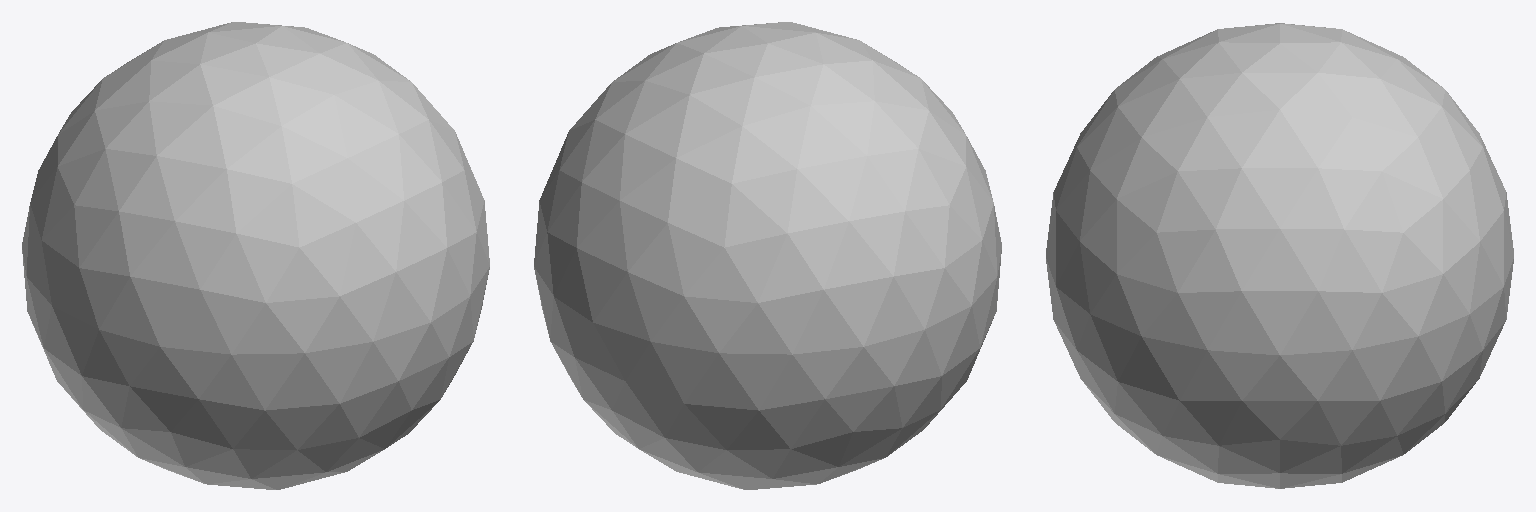
Rendered from testSphere.obj.
3 renders of one model, left to right at view 1: azimuth 30°, elevation 25°; view 2: azimuth 150°, elevation 25°; view 3: azimuth 270°, elevation 25°, orthographic.
Parts seen in each view (by area): view 1: Icosphere; view 2: Icosphere; view 3: Icosphere.
Part boxes in pixels (x1,y1,x2,y2): Icosphere: (22, 22, 489, 489); Icosphere: (534, 22, 1001, 489); Icosphere: (1046, 23, 1513, 488).
Bounding box in the file's own units: 2.01 × 2 × 2.